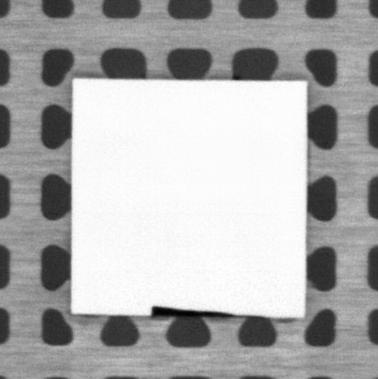DIE_BROKEN: (150, 304, 239, 319)
